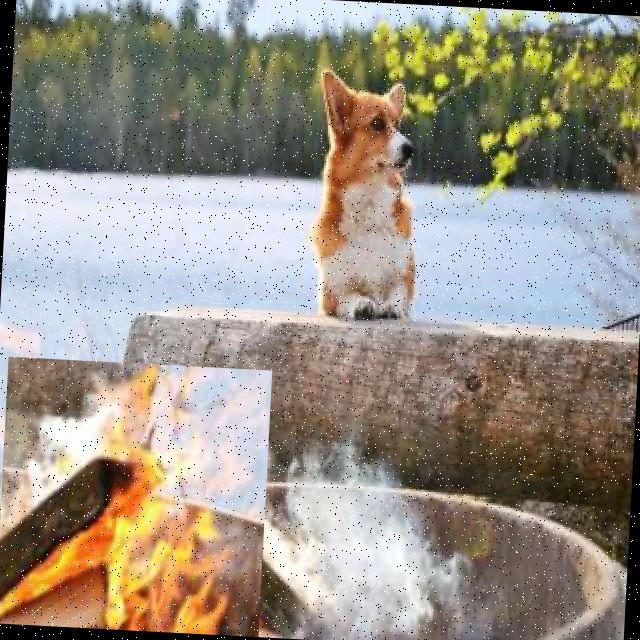fire: (0, 357, 272, 637)
